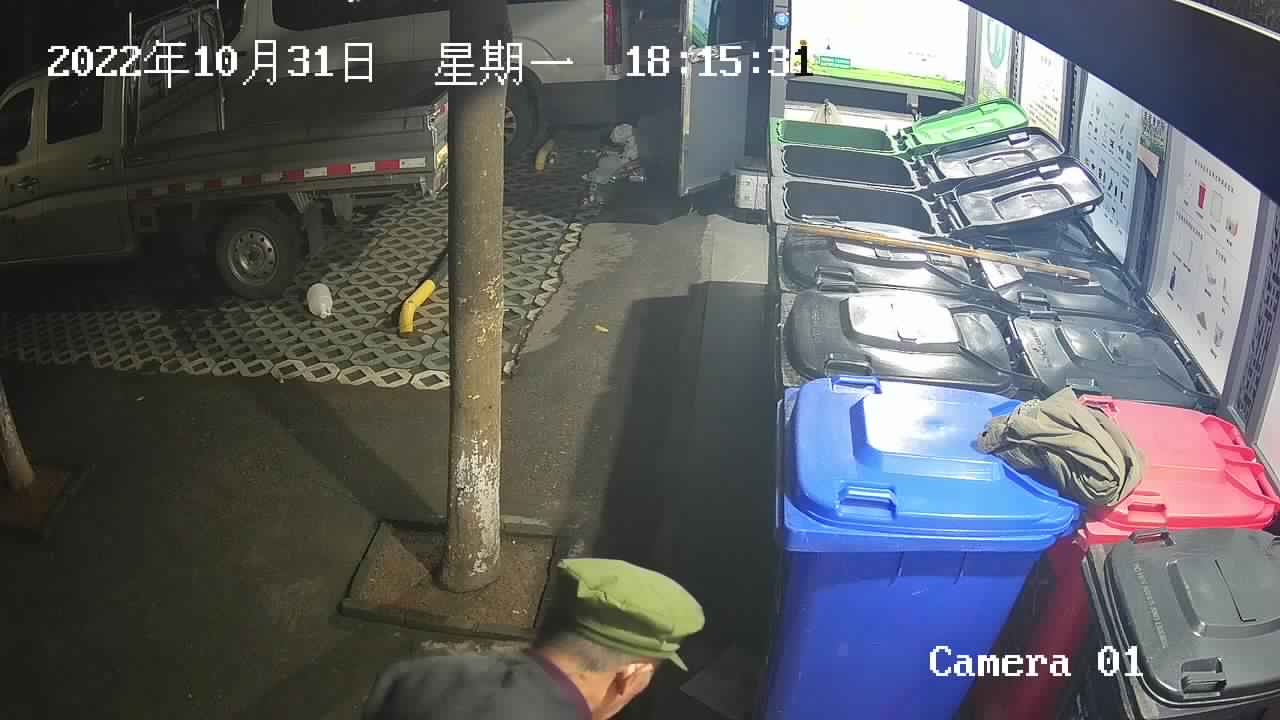person: (357, 555, 706, 720)
suliaozhipin: (305, 280, 334, 320)
